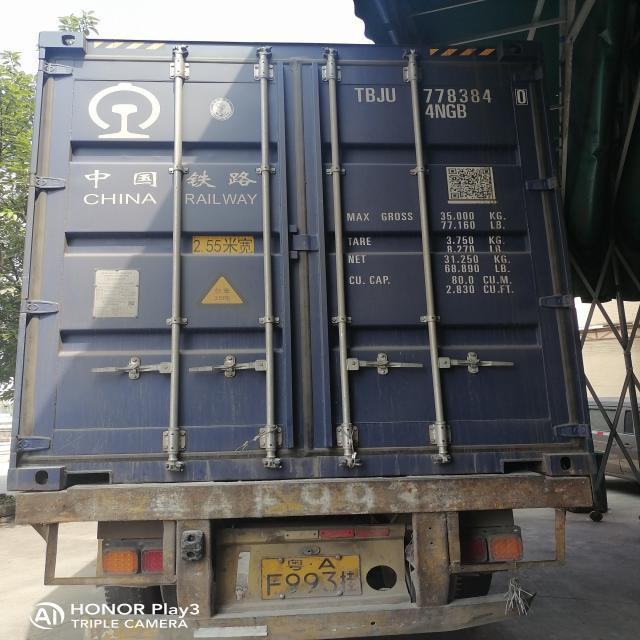ISO: (425, 104, 473, 125)
container_number: (349, 78, 532, 106)
